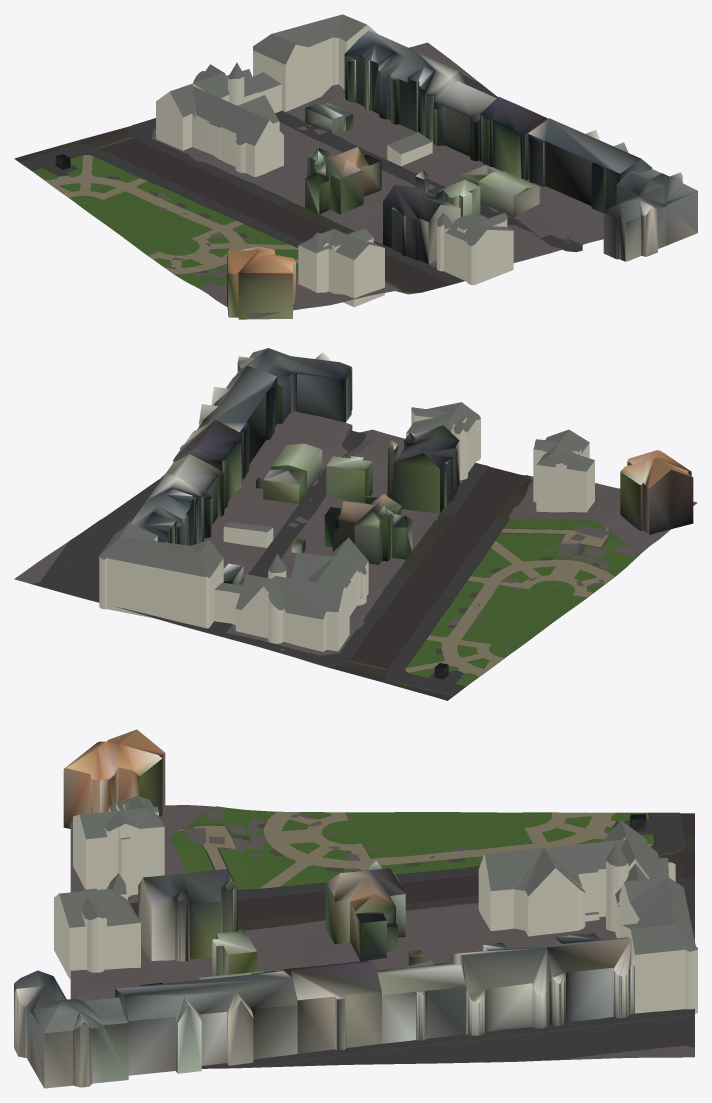
3 renders of one model, top to bottom at view 1: azimuth 30°, elevation 25°; view 2: azimuth 150°, elevation 25°; view 3: azimuth 270°, elevation 25°, orthographic. The views are drawn at different scales.
Parts seen in each view (by area): view 1: c_m05_p10; view 2: c_m05_p10; view 3: c_m05_p10.
Part boxes in pixels (x1,y1,x2,y2): c_m05_p10: (14,14,697,319); c_m05_p10: (14,348,697,700); c_m05_p10: (14,729,697,1088).
Size of the model in its own units: 138 by 21.65 by 140.
